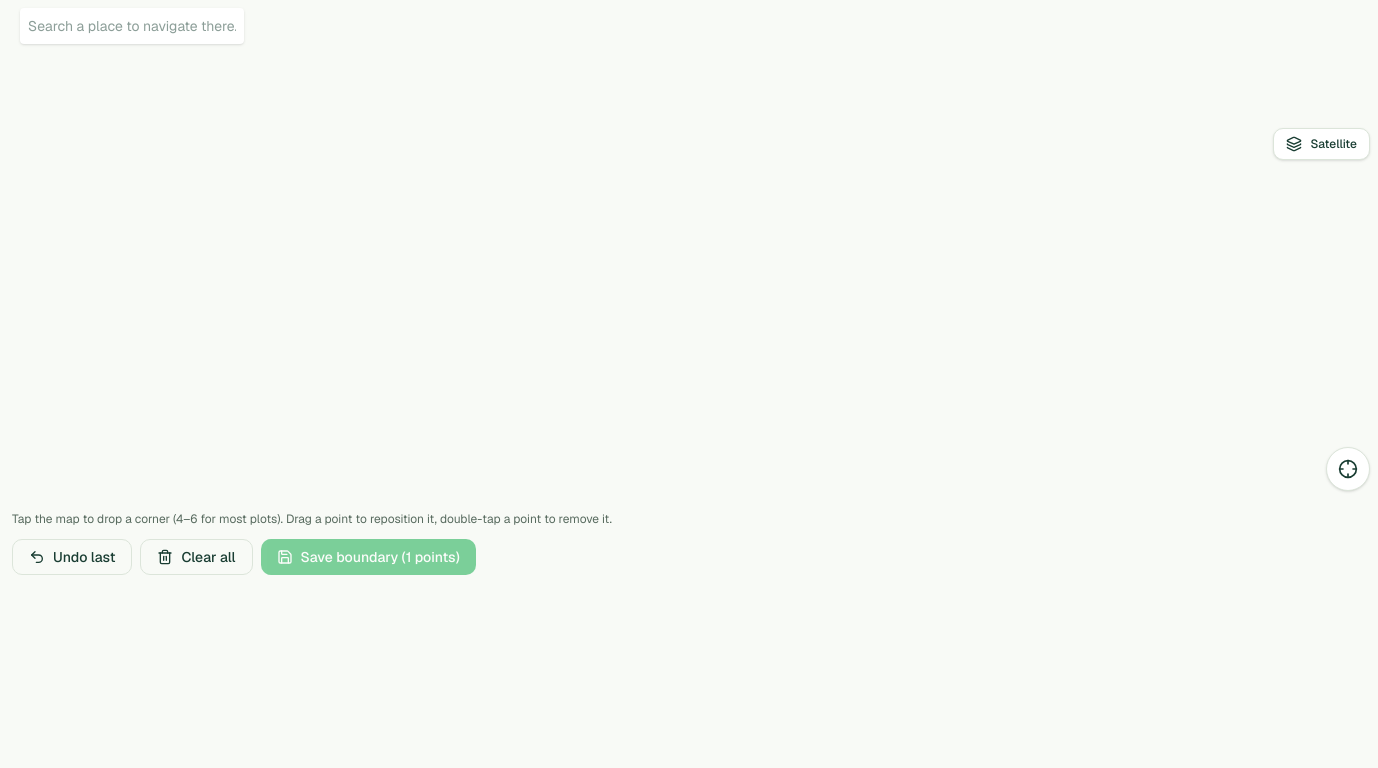
Scenario: ManualBoundaryDrawer — placing and editing points › clears all points after confirming
Expected: the button "Save boundary (1 points)" is shown, [260,539,476,575]
Click the button "Clear all" at [196, 557], box [140,539,252,575]
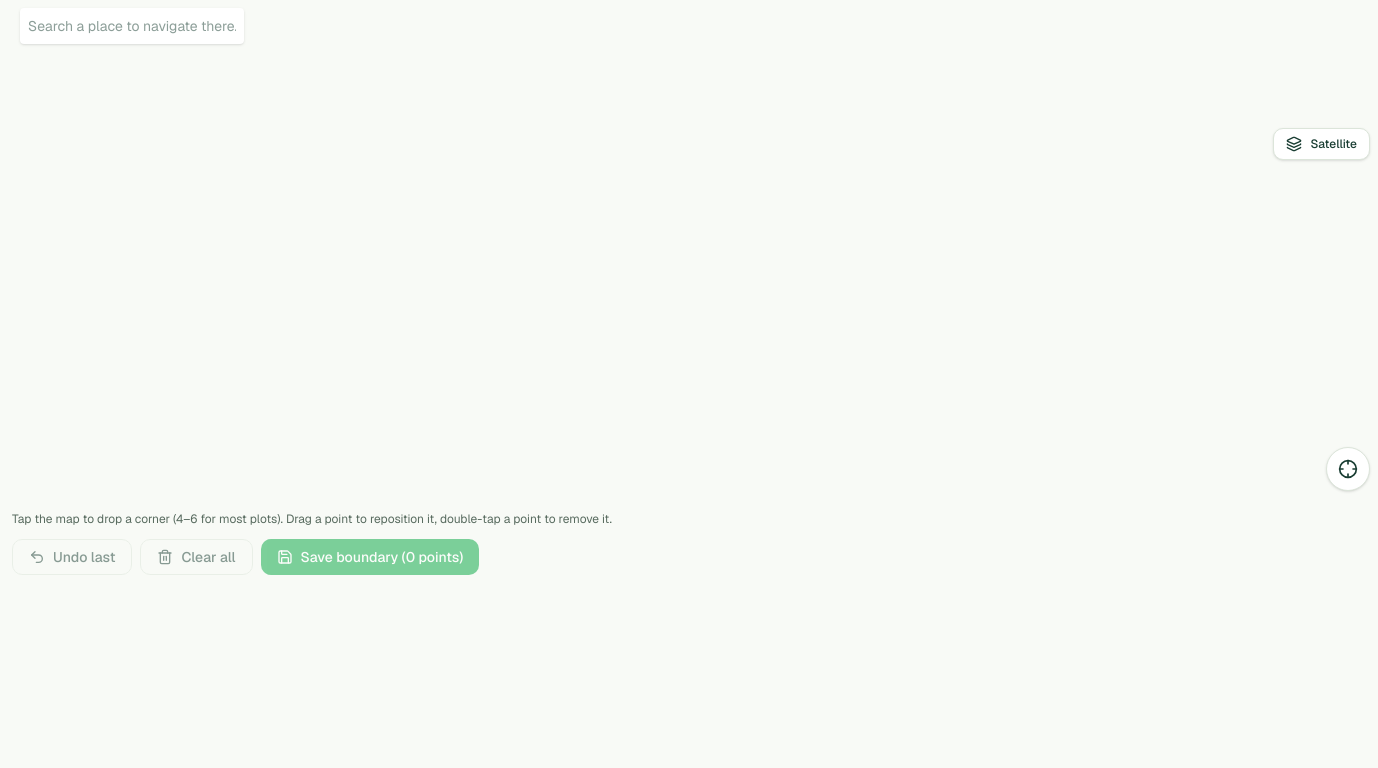
Expected: the button "Save boundary (0 points)" is shown, [260,539,479,575]
